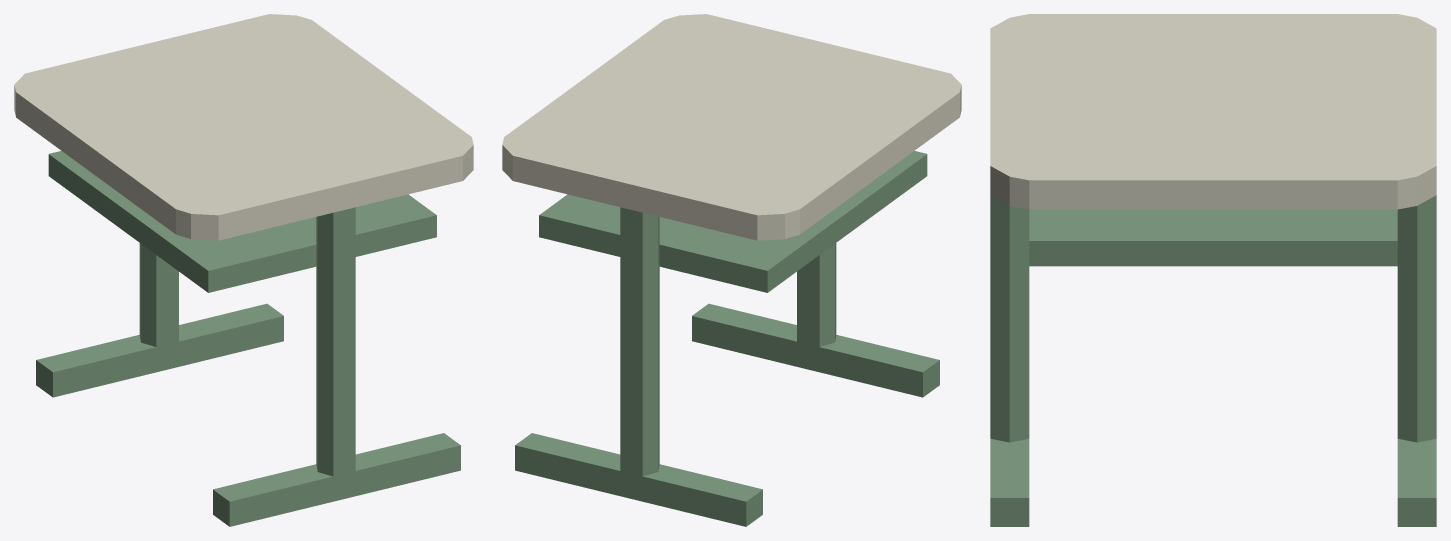
File: schooltable.fbx
3 views of the same model, side by side, from view 1: azimuth 30°, elevation 25°; view 2: azimuth 150°, elevation 25°; view 3: azimuth 270°, elevation 25° (orthographic). The views are drawn at different scales.
Parts seen in each view (by area): view 1: School Table; view 2: School Table; view 3: School Table.
Boxes of the visible parts, x1,y1,x2,y2 form: School Table: (14,14,473,526); School Table: (502,14,961,526); School Table: (990,14,1436,526).
Size of the model in its own units: 146 by 148 by 166.
